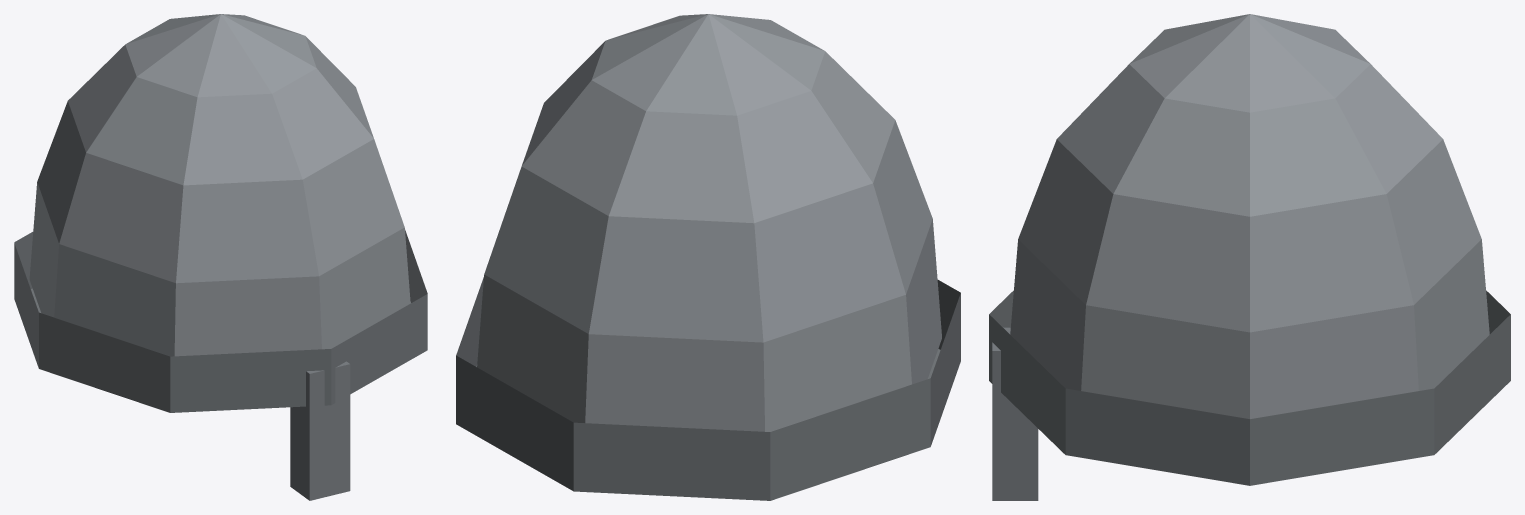
The model's file is helm_steel.glb.
3 renders of one model, left to right at view 1: azimuth 30°, elevation 25°; view 2: azimuth 150°, elevation 25°; view 3: azimuth 270°, elevation 25°, orthographic. The views are drawn at different scales.
Visible parts, largest first — view 1: helm_steel; view 2: helm_steel; view 3: helm_steel.
Boxes of the visible parts, left/top/right/bottom form: helm_steel: left=14, top=14, right=427, bottom=500; helm_steel: left=456, top=14, right=960, bottom=500; helm_steel: left=989, top=14, right=1510, bottom=500.
Bounding box in the file's own units: 0.27 × 0.285 × 0.2835.
Materials: 1 (1 with a texture image).
